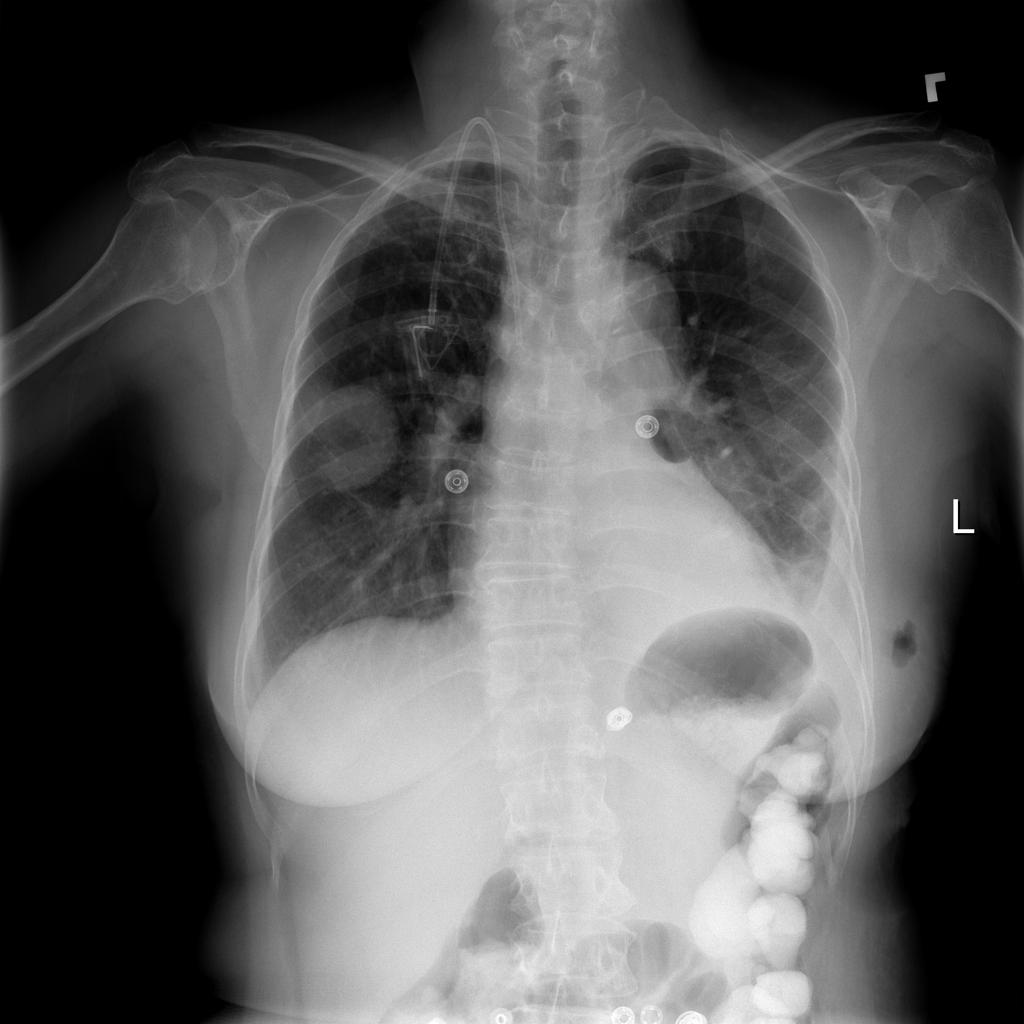nodule: (280, 361, 414, 515)
